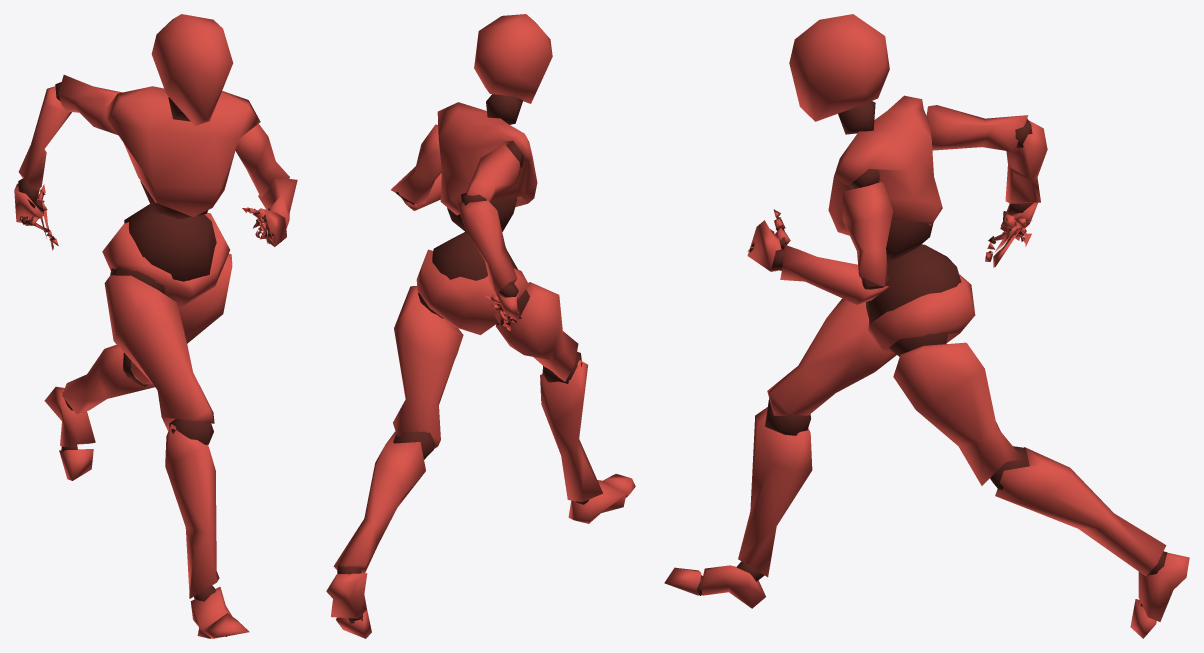
The picture shows the model from 3 angles, left to right: view 1: azimuth 30°, elevation 25°; view 2: azimuth 150°, elevation 25°; view 3: azimuth 270°, elevation 25°; orthographic projection. The views are drawn at different scales.
Visible parts, largest first — view 1: Beta_Surface.001; view 2: Beta_Surface.001; view 3: Beta_Surface.001.
Boxes of the visible parts, x1,y1,x2,y2 form: Beta_Surface.001: [14, 14, 297, 638]; Beta_Surface.001: [326, 14, 635, 638]; Beta_Surface.001: [664, 14, 1189, 638].
Size of the model in its own units: 5.31 by 14.22 by 11.21.
